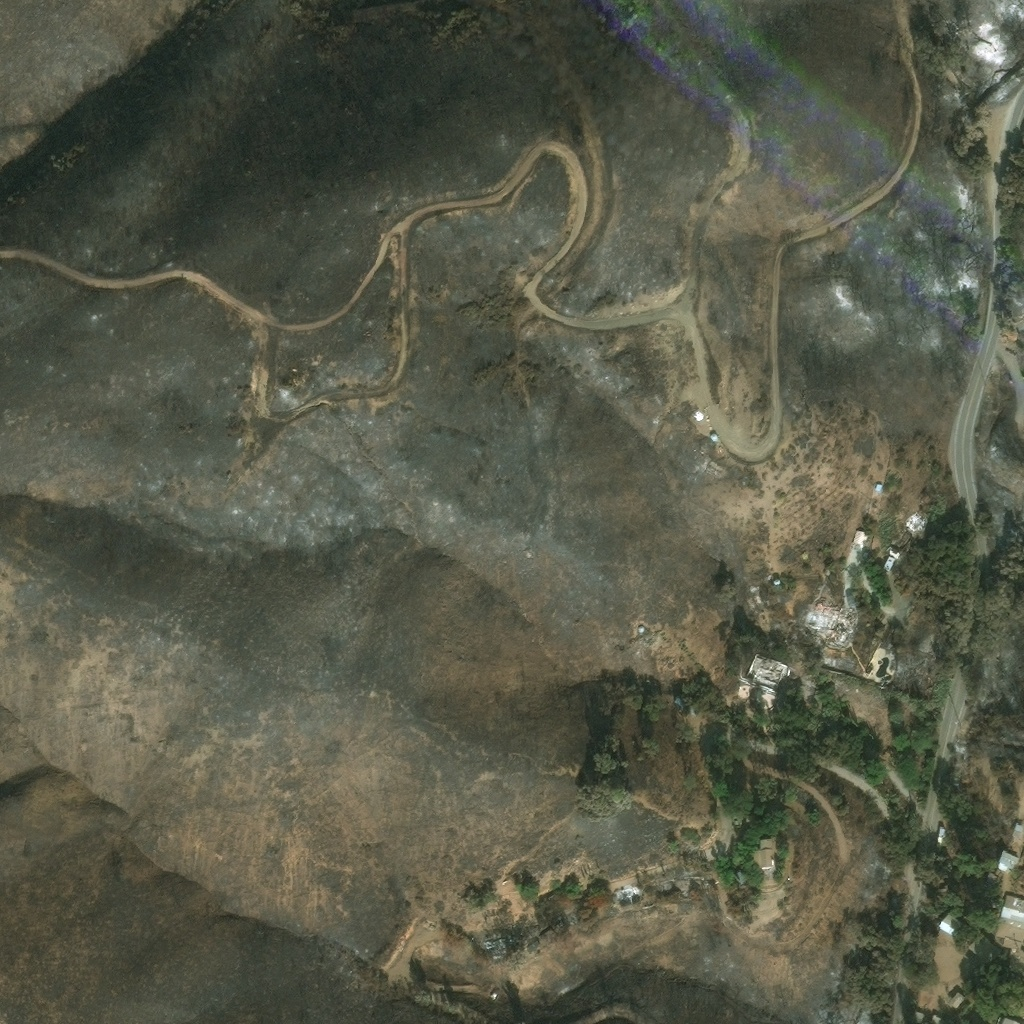0 no-damage: (965, 931, 1003, 967), (996, 916, 1023, 947), (749, 840, 775, 871), (937, 911, 964, 938), (999, 893, 1023, 920), (995, 849, 1019, 872), (948, 991, 966, 1009), (934, 825, 948, 847), (731, 870, 746, 888), (881, 555, 895, 573), (670, 693, 684, 707), (910, 1010, 924, 1023), (931, 1013, 945, 1023), (1012, 821, 1023, 832), (744, 816, 755, 825), (771, 580, 781, 589), (708, 434, 716, 442), (732, 818, 740, 826), (874, 484, 882, 492)
1 minor-damage: (848, 530, 869, 553)
3 destroyed: (806, 600, 851, 639), (745, 654, 793, 690), (748, 683, 780, 711), (481, 930, 516, 950), (614, 886, 636, 902), (873, 676, 893, 693), (905, 514, 923, 532), (746, 592, 763, 610), (653, 880, 671, 894), (704, 856, 715, 864), (693, 412, 702, 421)
